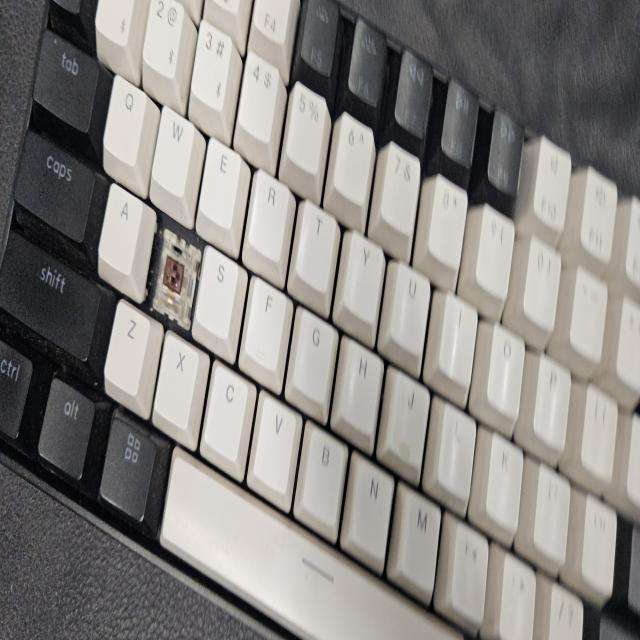C: (159, 228, 189, 313)
